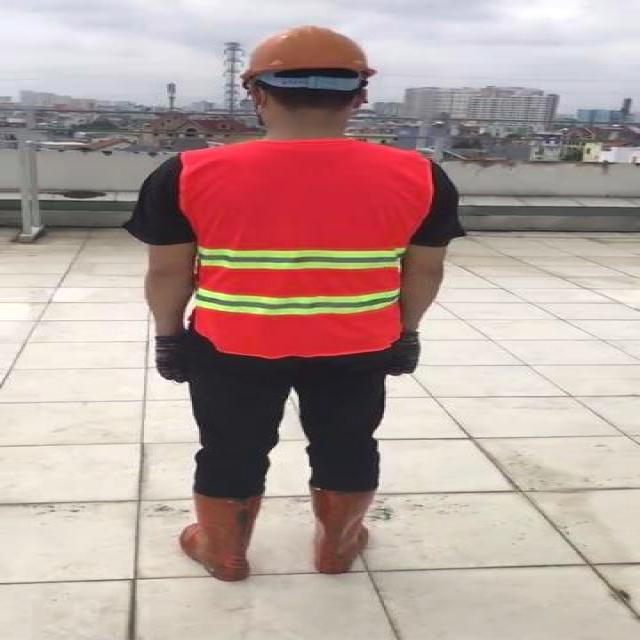boots: (178, 494, 265, 581), (309, 486, 379, 575)
hand_glove: (153, 334, 185, 384), (391, 334, 423, 375)
head_helmet: (241, 22, 374, 76)
person: (112, 25, 464, 593)
vest: (183, 140, 432, 358)
